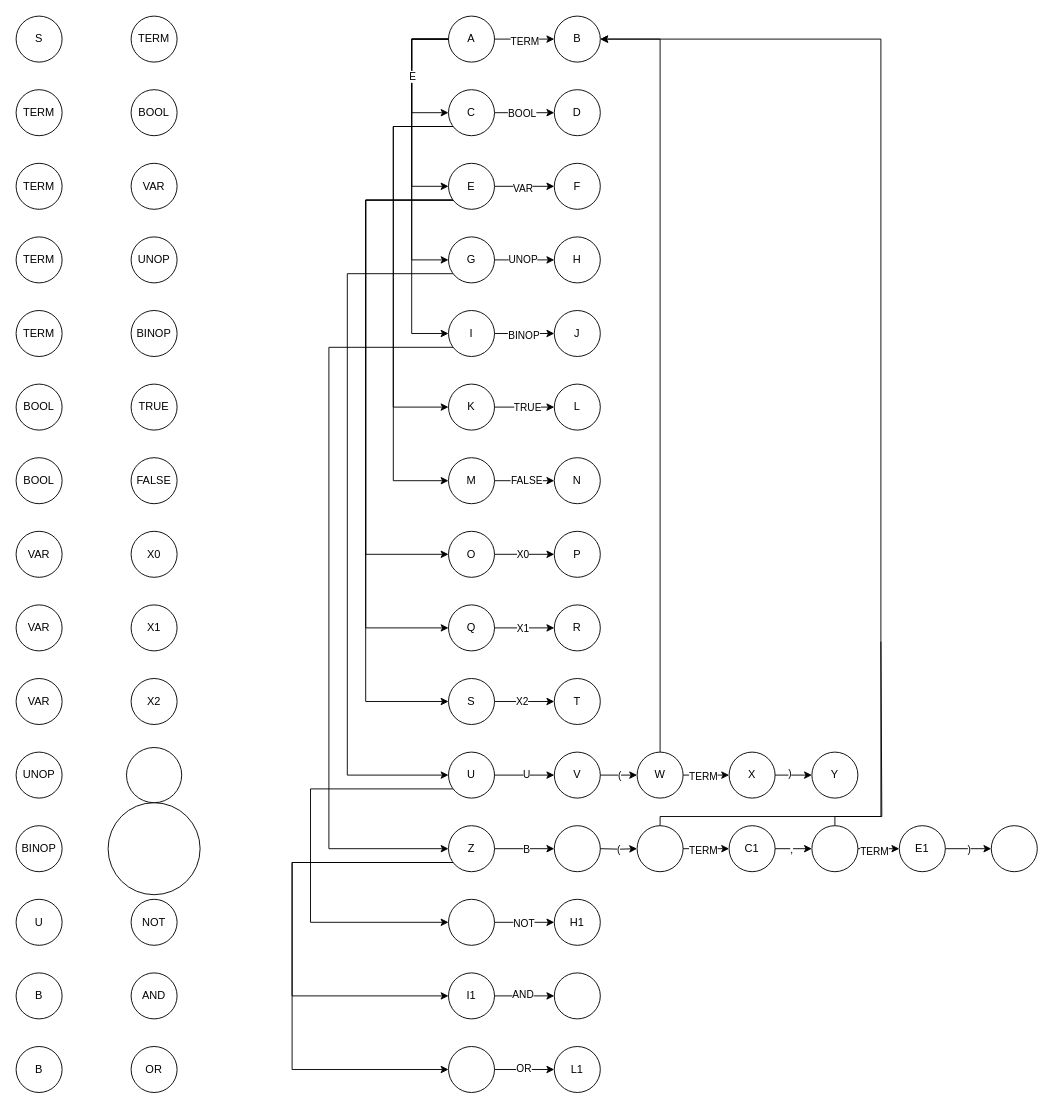
Some shapes in this 1053 by 1109 pixel diagram are drawn without their labels. The box of each missing label's shape, as (x1, y1, x2, y2) in pixels:
A1: (553, 825, 600, 872)
B(TERM,TERM): (107, 802, 200, 895)
B1: (636, 825, 683, 872)
D1: (811, 825, 858, 872)
F1: (990, 825, 1037, 872)
G1: (448, 898, 494, 945)
J1: (553, 972, 600, 1019)
K1: (448, 1046, 494, 1092)
U(TERM): (126, 747, 182, 803)
